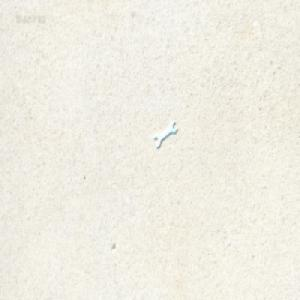Wrench: (153, 119, 175, 147)
